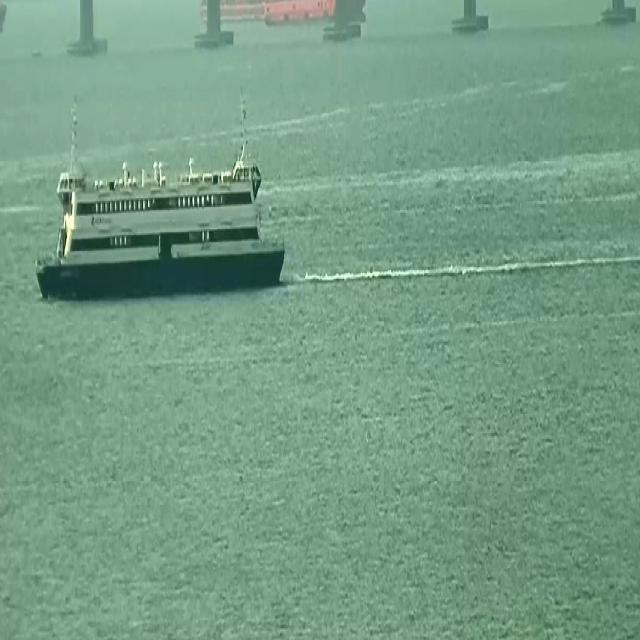Passenger: (35, 114, 285, 297)
